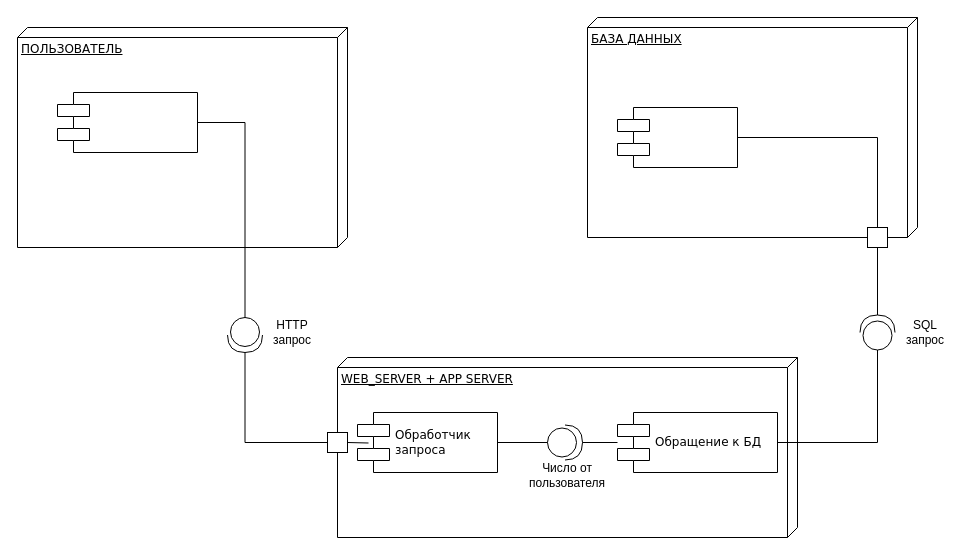
Some shapes in this 972 by 555 pixel diagram are drawn without their labels. Here are the shapes that lost their labels. From the top down, the centre of each, then its label:
the point at 127,122: Интерфейс пользователя
the point at 677,137: СУБД
